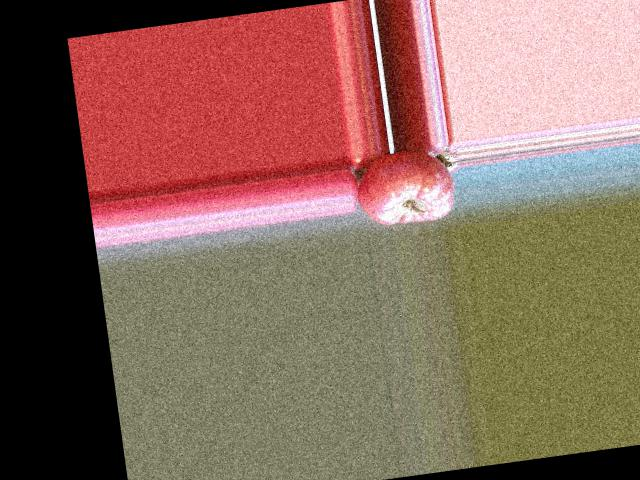tomato: (350, 145, 457, 229)
